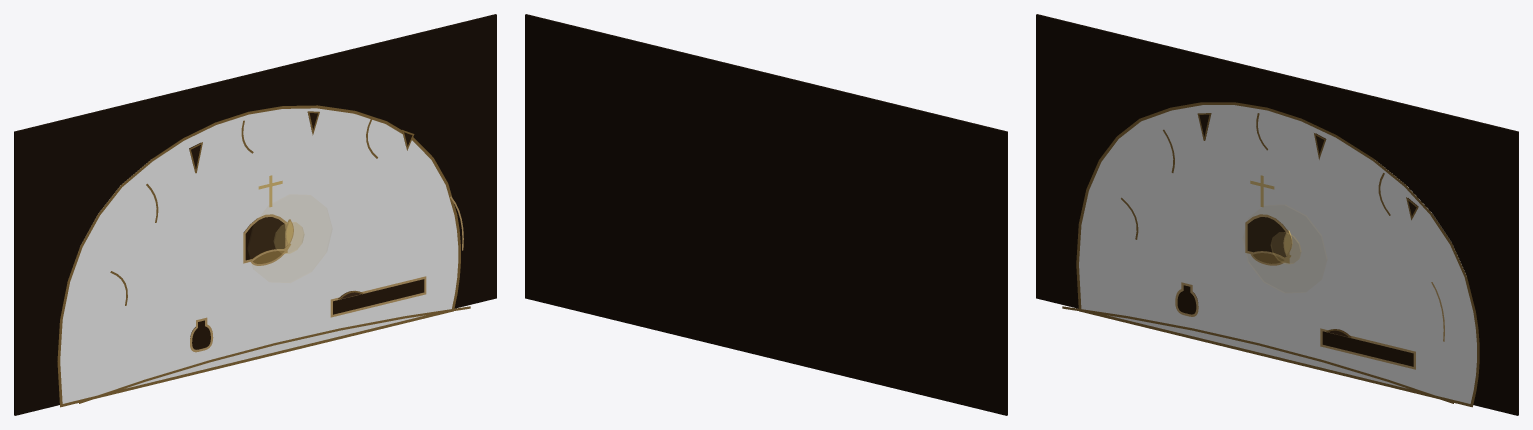
Rendered from loc-peshchera-isikhasta.glb.
3 renders of one model, left to right at view 1: azimuth 30°, elevation 25°; view 2: azimuth 150°, elevation 25°; view 3: azimuth 330°, elevation 25°, orthographic.
Visible parts, largest first — view 1: loc-peshchera-isikhasta; view 2: loc-peshchera-isikhasta; view 3: loc-peshchera-isikhasta.
Boxes of the visible parts, left/top/right/bottom form: loc-peshchera-isikhasta: left=14, top=14, right=496, bottom=415; loc-peshchera-isikhasta: left=525, top=14, right=1007, bottom=415; loc-peshchera-isikhasta: left=1036, top=14, right=1518, bottom=415.
Size of the model in its own units: 5.33 by 3.01 by 0.401.
